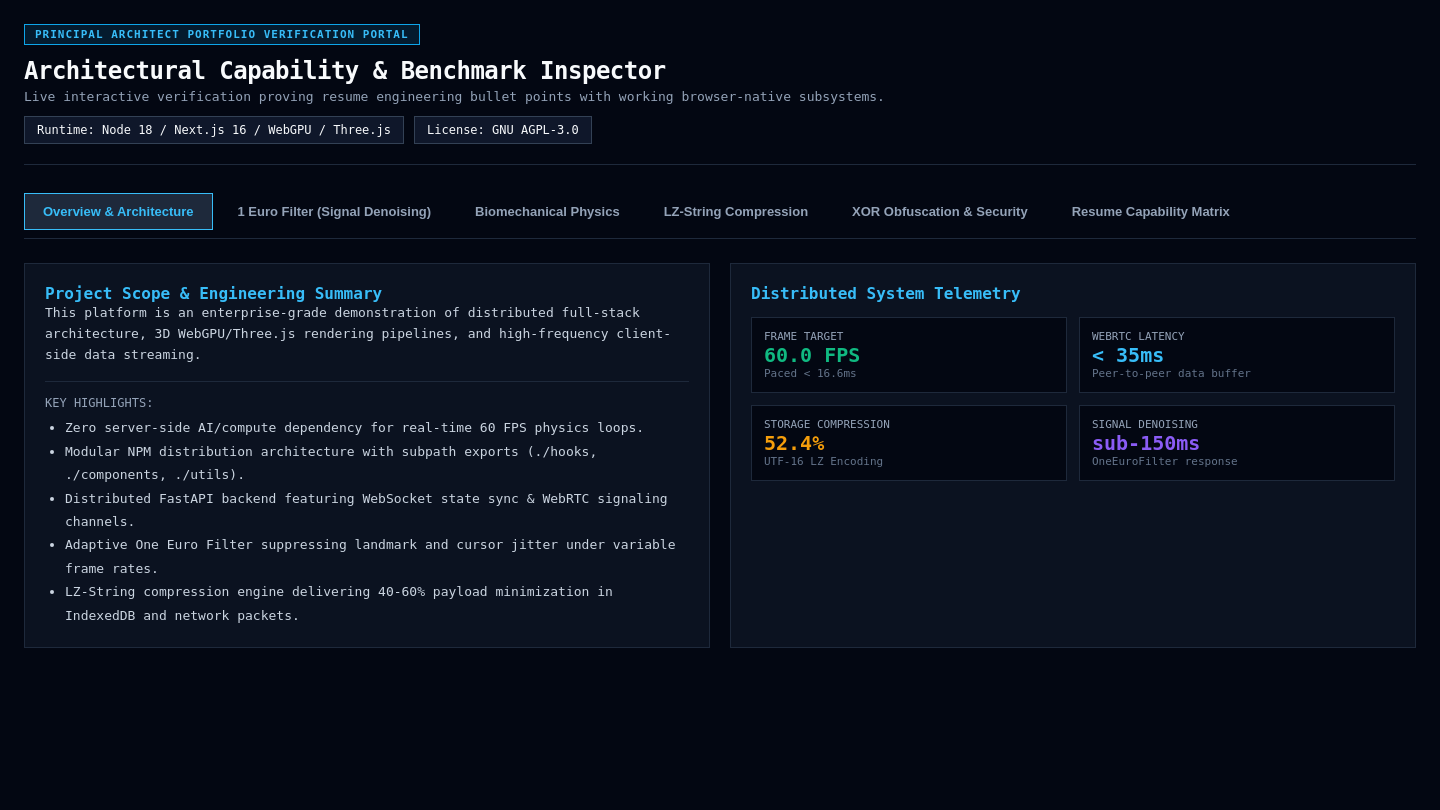
Test: Component Rendering: RecruiterPortal › switches tabs to LZ-String Compression and runs benchmark
The image size is (1440, 810).
Click the button "LZ-String Compression" at (736, 212), box [645,193,827,230]
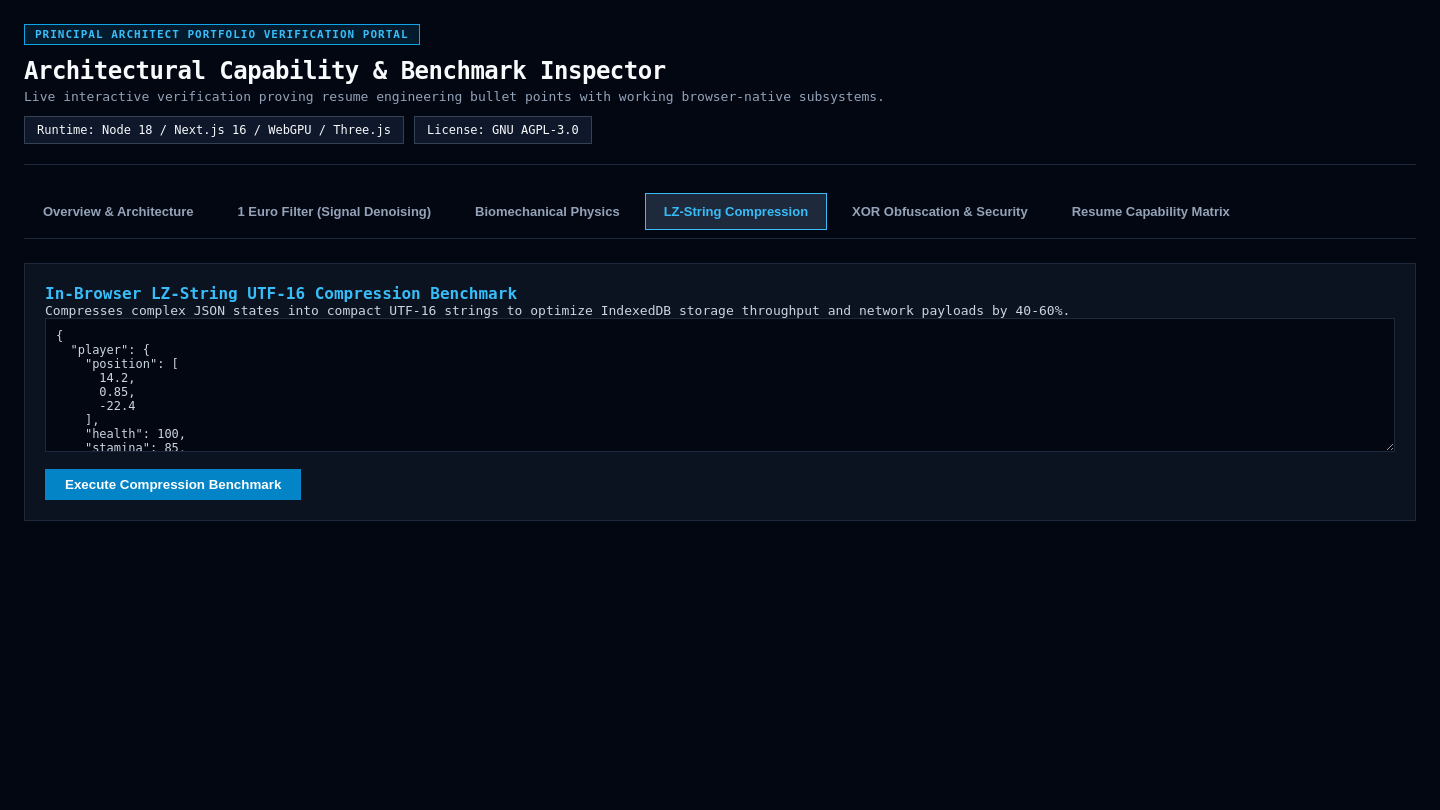
Result: the heading "In-Browser LZ-String UTF-16 Compression Benchmark" is shown at [45,284,517,303]
Click the button "Execute Compression Benchmark" at (173, 484), box [45,469,301,500]
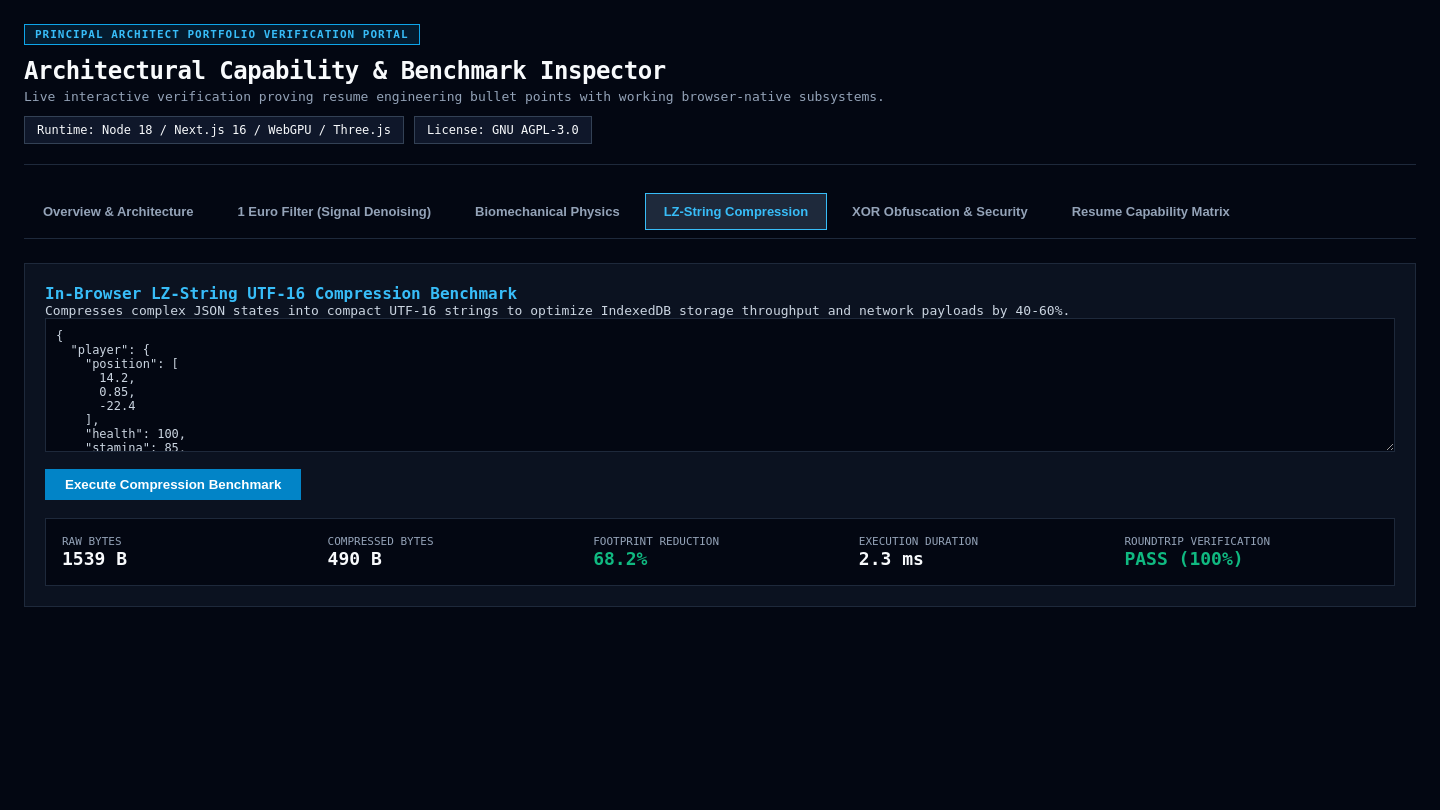
Result: the text "FOOTPRINT REDUCTION" is shown at [593,535,719,548]
